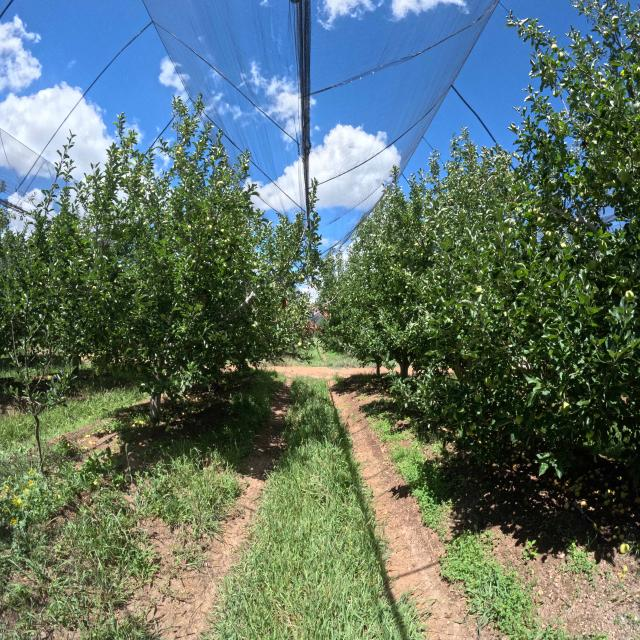-FireBlight-: (304, 320, 324, 335), (310, 304, 322, 316), (280, 296, 290, 310), (324, 311, 332, 322)
